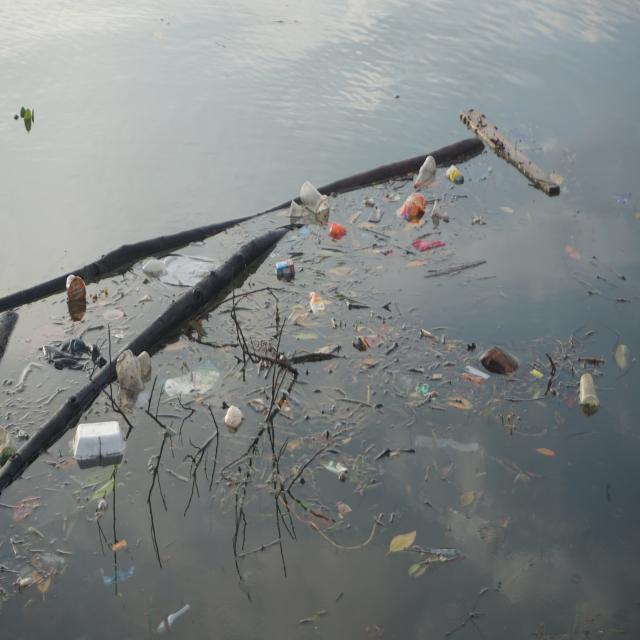Botol Plastik: (414, 156, 438, 189)
Bungkus Makanan: (72, 418, 129, 472), (444, 163, 464, 187), (370, 244, 394, 262)
Bungkus Minuman: (299, 180, 331, 217), (67, 268, 90, 312), (579, 373, 601, 411), (290, 200, 306, 219)
Kantong Plastik: (223, 403, 245, 434), (328, 221, 349, 244)
